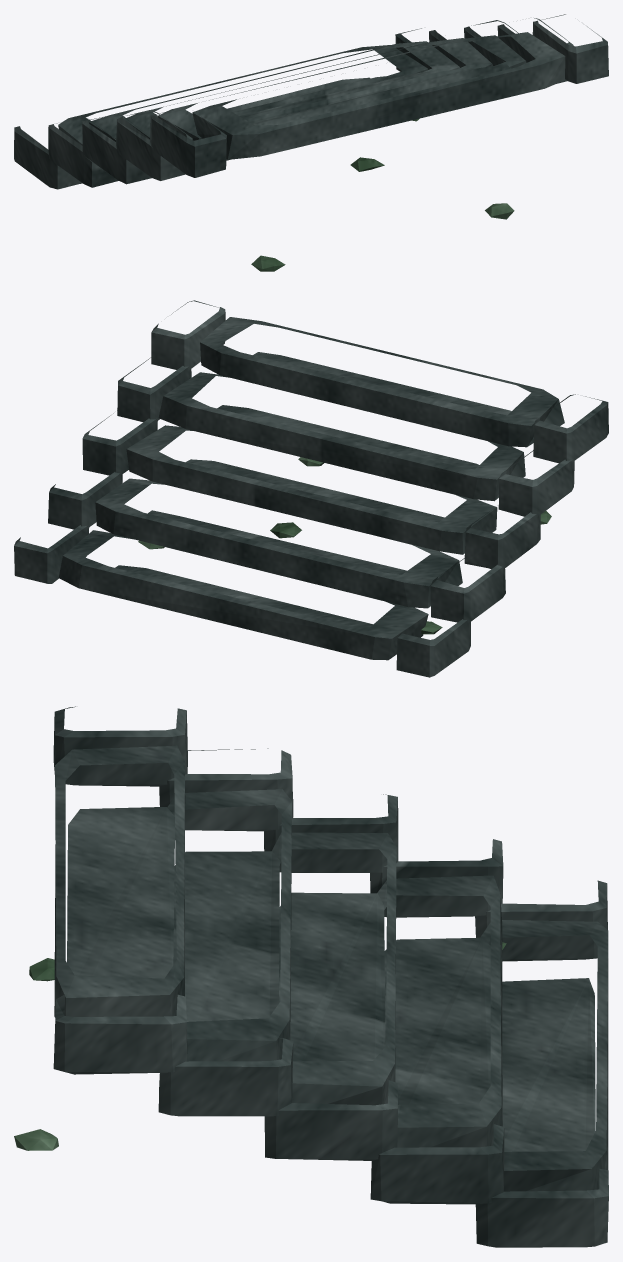
The model's file is 0358_stairs_08.glb.
The picture shows the model from 3 angles, top to bottom: view 1: azimuth 30°, elevation 25°; view 2: azimuth 150°, elevation 25°; view 3: azimuth 270°, elevation 25°; orthographic projection. The views are drawn at different scales.
Visible parts, largest first — view 1: stone_dark, moss; view 2: stone_dark, moss; view 3: stone_dark, moss.
Part boxes in pixels (box(x1,y1,x2,y2)): stone_dark: box(14, 14, 608, 189); moss: box(251, 118, 514, 271); stone_dark: box(14, 300, 608, 677); moss: box(138, 457, 551, 634); stone_dark: box(53, 706, 608, 1247); moss: box(14, 942, 506, 1150).
Bounding box in the file's own units: 3.12 × 1.07 × 2.48.
2 materials, 2 textured.
